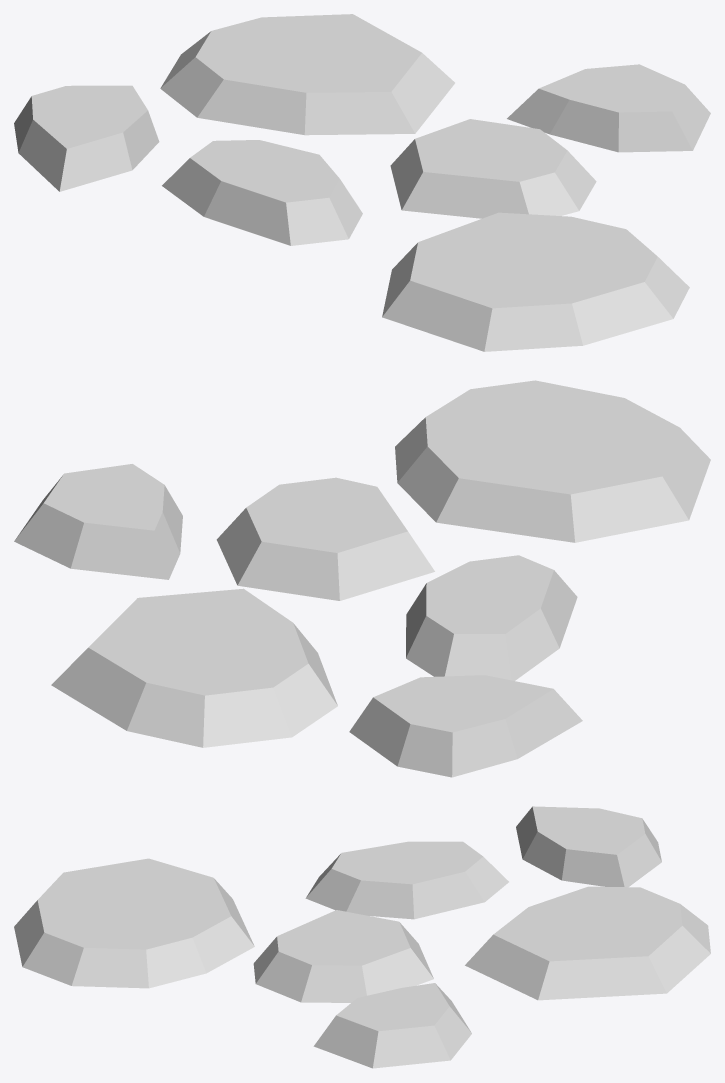
Rendered from stone.fbx.
3 views of the same model, one above another, from view 1: azimuth 30°, elevation 25°; view 2: azimuth 150°, elevation 25°; view 3: azimuth 270°, elevation 25° (orthographic). The views are drawn at different scales.
Visible parts, largest first — view 1: stone; view 2: stone; view 3: stone.
Boxes of the visible parts, x1,y1,x2,y2 form: stone: (14,14,710,351); stone: (14,380,710,777); stone: (14,806,710,1068).
Bounding box in the file's own units: 335 × 17.94 × 409.
1 material, 1 textured.
